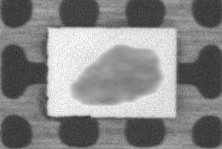DIE_INK: (88, 26, 222, 75)
